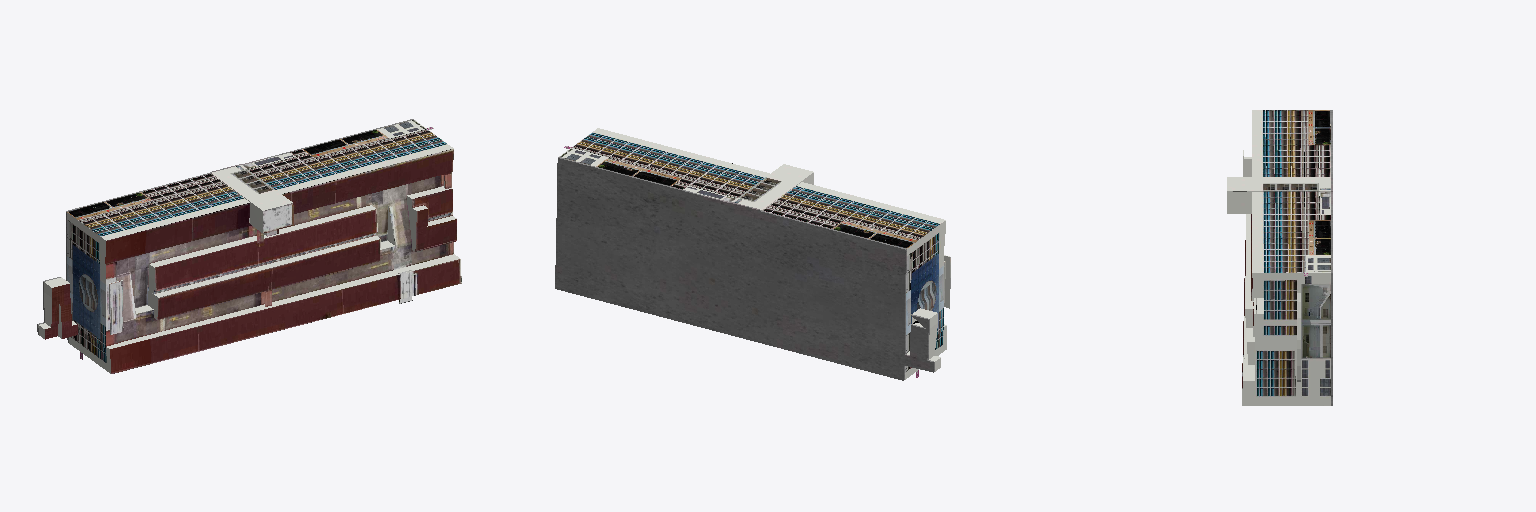
The picture shows the model from 3 angles: view 1: azimuth 30°, elevation 25°; view 2: azimuth 150°, elevation 25°; view 3: azimuth 270°, elevation 25°; orthographic projection.
Visible parts, largest first — view 1: polygon.792; view 2: polygon.792; view 3: polygon.792.
Boxes of the visible parts, <box> form: polygon.792: <box>37,119,461,373</box>; polygon.792: <box>555,128,950,380</box>; polygon.792: <box>1227,110,1332,405</box>.
Bounding box in the file's own units: 101 × 36.45 × 24.13.
1 materials, 1 textured.